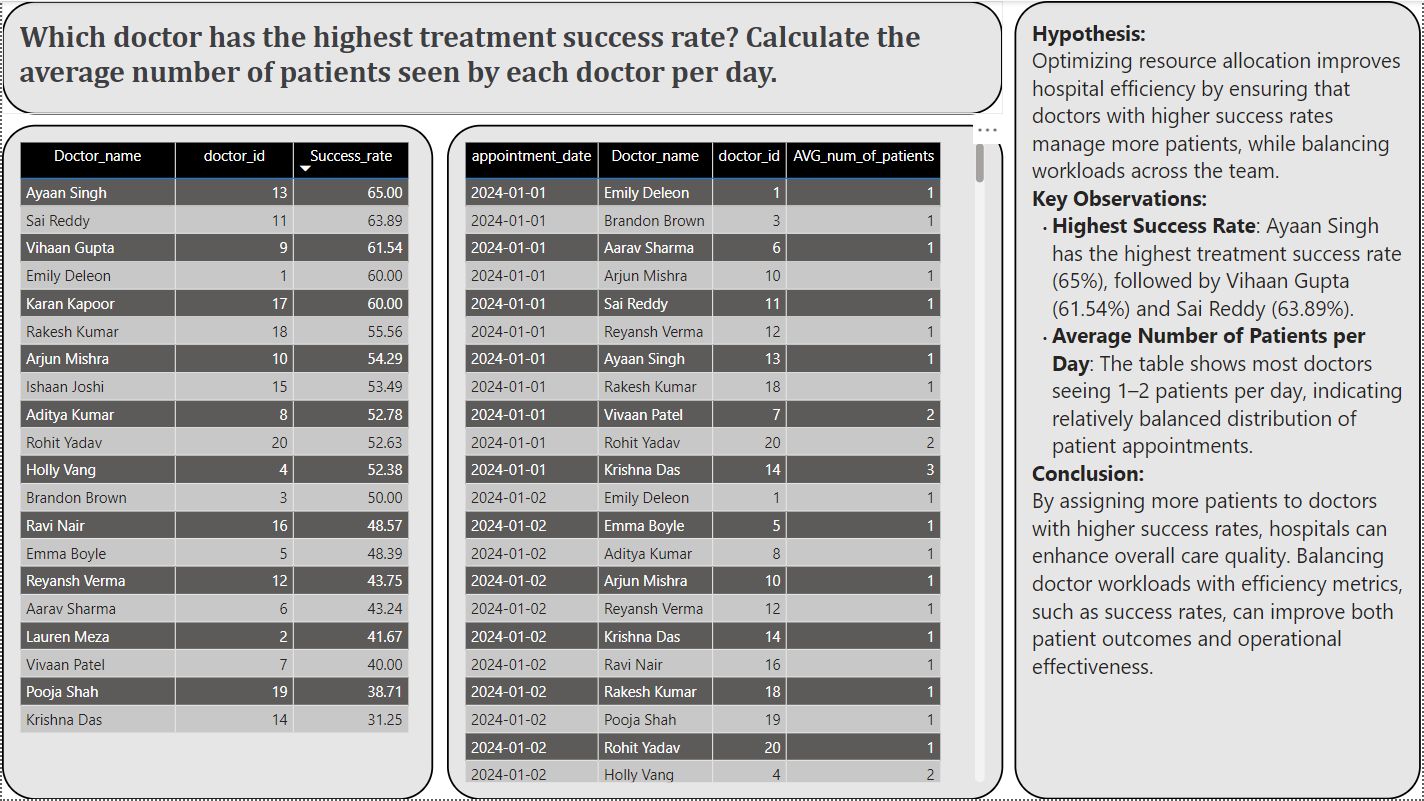

This screenshot's page, from the dashboard's own definition file:
{"tool":"powerbi","page":{"name":"Page 4","canvas":[1280,720],"ordinal":3},"visuals":[{"type":"tableEx","fields":{"Values":["07.Doctor_name","07.doctor_id","07.Success_rate"]},"box":[0,111.3,388.9,609],"z":0},{"type":"tableEx","fields":{"Values":["08.appointment_date","07.Doctor_name","08.doctor_id","08.AVG_num_of_patients"]},"box":[401.1,111.3,501.4,609],"z":1000},{"type":"textbox","box":[0,0,902.5,102.7],"z":2000},{"type":"textbox","box":[913.4,0,366.6,719.6],"z":3000}]}

Visuals, with their boxes in screenshot pixels (x1, y1, x2, y2), scaled from the page's 1280x720 canvas onto the 1424x801 screenshot:
tableEx - 07.Doctor_name x 07.doctor_id: box=[0, 124, 433, 800]
tableEx - 08.appointment_date x 07.Doctor_name: box=[446, 124, 1004, 800]
textbox: box=[0, 0, 1004, 114]
textbox: box=[1016, 0, 1423, 800]
